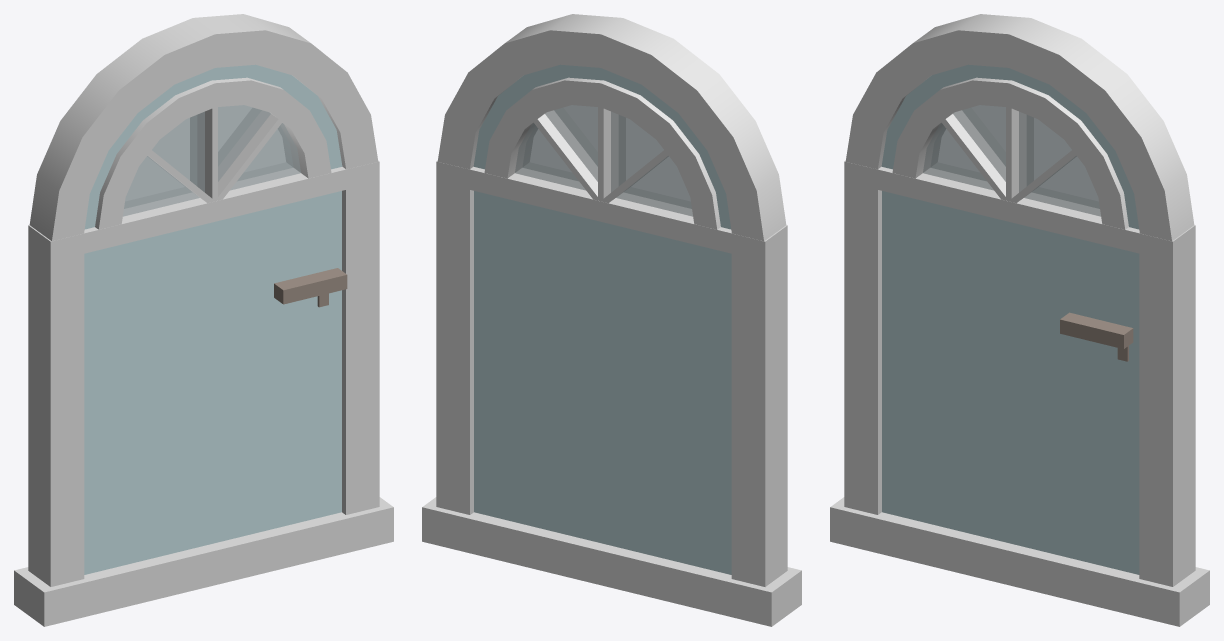
Rendered from kapı 2.2.2.fbx.
3 views of the same model, side by side, from view 1: azimuth 30°, elevation 25°; view 2: azimuth 150°, elevation 25°; view 3: azimuth 330°, elevation 25° (orthographic).
Parts seen in each view (by area): view 1: pCube26; view 2: pCube26; view 3: pCube26.
Boxes of the visible parts, x1,y1,x2,y2 form: pCube26: (14, 14, 393, 626); pCube26: (422, 14, 801, 626); pCube26: (830, 14, 1209, 626).
Size of the model in its own units: 967 by 1446 by 167.
